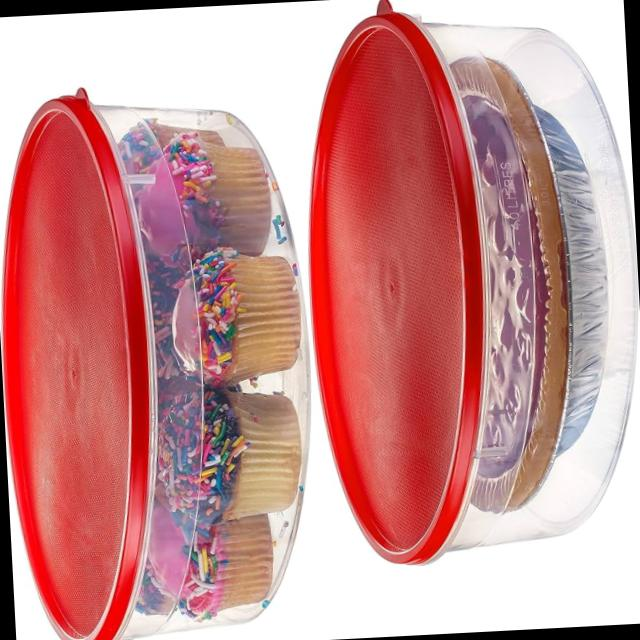plastic_box: (1, 40, 379, 640), (283, 0, 640, 604)
